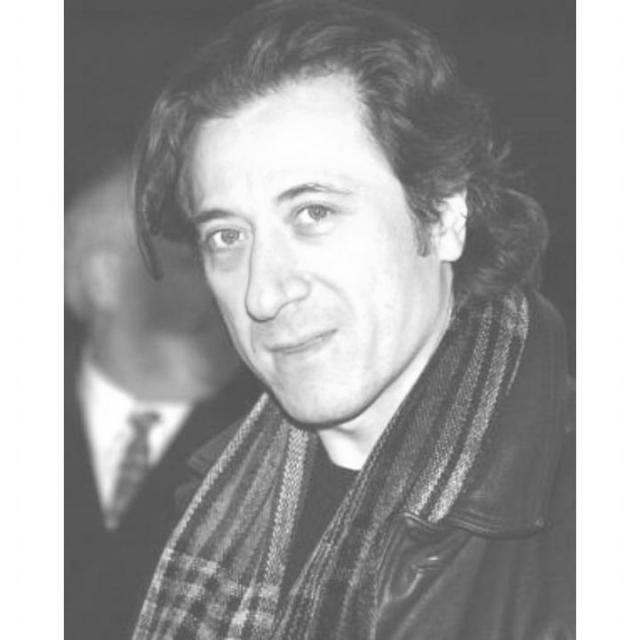real: (188, 80, 442, 428)
